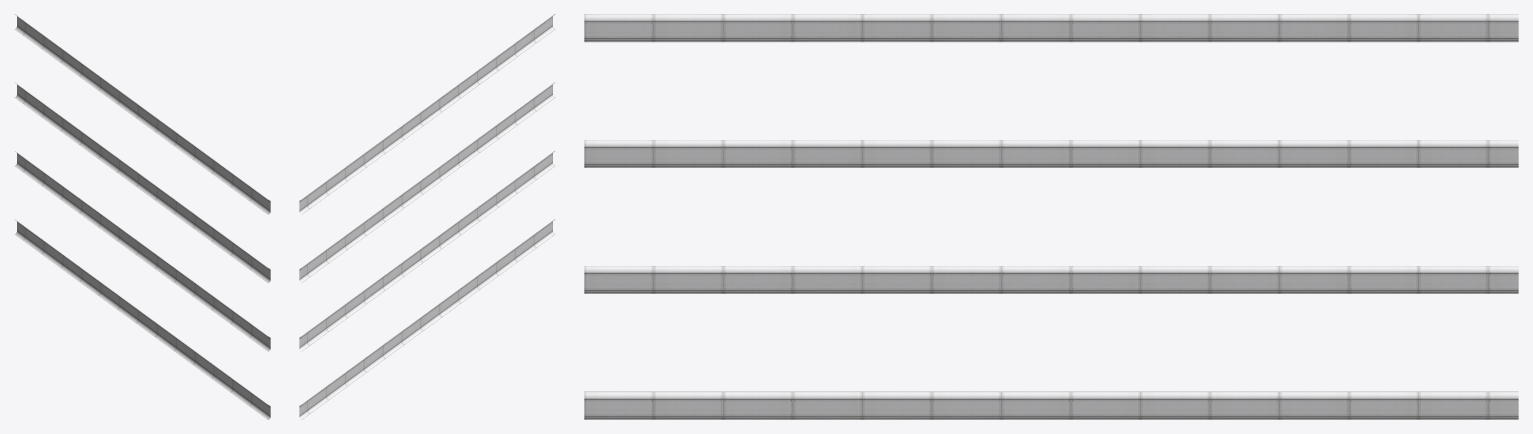
File: RearFAC_Sup05.FBX
3 views of the same model, side by side, from view 1: azimuth 30°, elevation 25°; view 2: azimuth 150°, elevation 25°; view 3: azimuth 270°, elevation 25° (orthographic). The views are drawn at different scales.
Parts seen in each view (by area): view 1: RearFAC_Sup05; view 2: RearFAC_Sup05; view 3: RearFAC_Sup05.
Part boxes in pixels (box(x1,y1,x2,y2)): RearFAC_Sup05: box(14, 14, 270, 419); RearFAC_Sup05: box(299, 14, 555, 419); RearFAC_Sup05: box(584, 14, 1518, 419).
Bounding box in the file's own units: 0.243 × 19.3 × 40.36.
